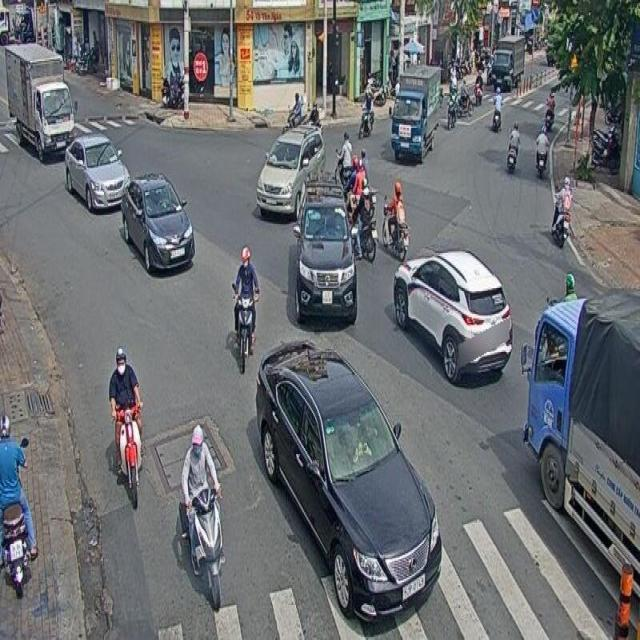car: (255, 338, 441, 624), (393, 250, 512, 382), (292, 198, 358, 322), (122, 172, 194, 274), (256, 126, 325, 214), (65, 134, 130, 212)
motorcycle: (178, 424, 222, 611), (108, 346, 142, 509), (232, 247, 258, 373), (382, 181, 409, 262), (550, 176, 571, 252)
truck: (525, 288, 640, 585), (390, 64, 439, 158)
